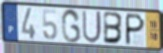4: (21, 6, 37, 42)
5: (41, 8, 58, 41)
B: (103, 11, 125, 45)
G: (61, 8, 82, 44)
P: (124, 13, 146, 47)
U: (81, 10, 103, 45)
